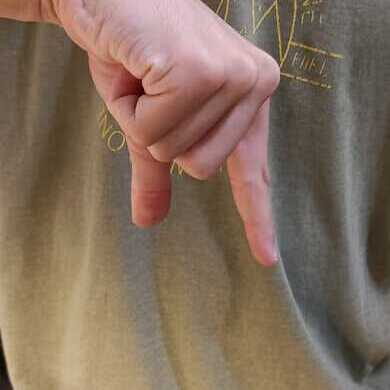Q: (48, 1, 281, 268)
